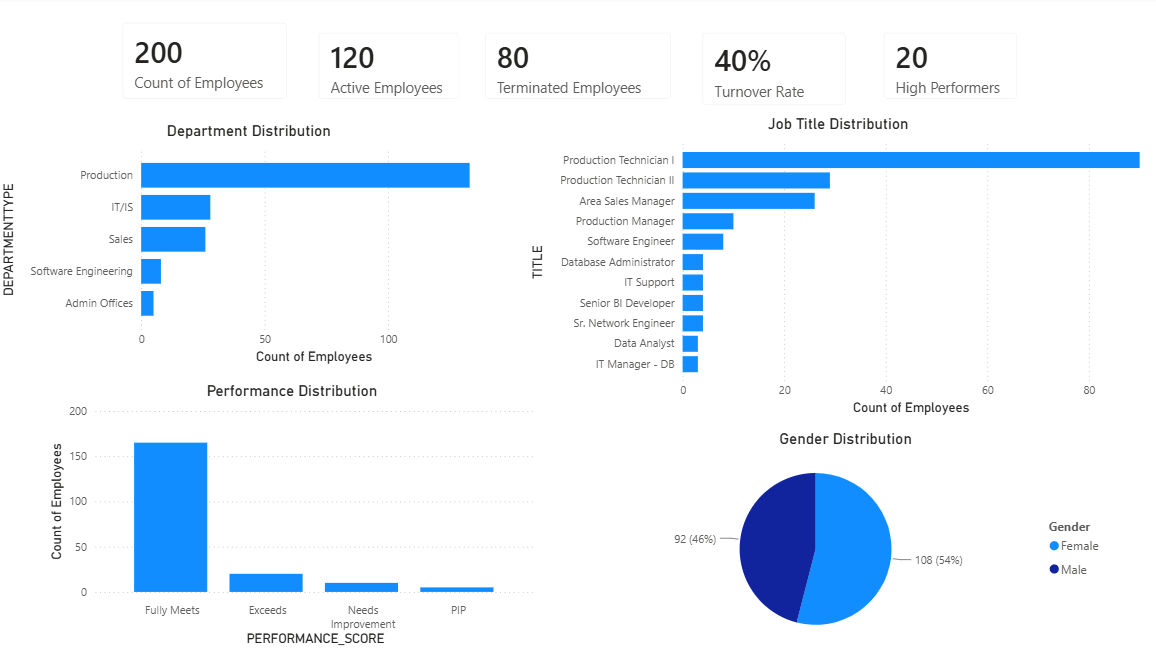

The dashboard page shown, as its layout file describes it:
{"tool":"powerbi","page":{"name":"Page 1","canvas":[1280,720],"ordinal":0},"visuals":[{"type":"cardVisual","title":"Total Employees","fields":{"Data":["CountNonNull(employee_master.EMPID)"]},"box":[121,12.4,215.9,118.3],"z":0},{"type":"cardVisual","fields":{"Data":["employee_master.Active Employees"]},"box":[336.9,23.4,188.4,107.3],"z":1000},{"type":"cardVisual","fields":{"Data":["employee_master.Terminated Employees"]},"box":[519.8,23.4,239.3,107.3],"z":2000},{"type":"cardVisual","fields":{"Data":["employee_master.Turnover Rate"]},"box":[759.1,23.4,192.5,114.1],"z":3000},{"type":"barChart","title":"Department Distribution","fields":{"Category":["employee_master.DEPARTMENTTYPE"],"Y":["CountNonNull(employee_master.EMPID)"]},"box":[0,137.5,554.2,272.3],"z":4000},{"type":"barChart","title":"Job Title Distribution","fields":{"Category":["employee_master.TITLE"],"Y":["CountNonNull(employee_master.EMPID)"]},"box":[581.7,130.6,687.6,335.5],"z":5000},{"type":"pieChart","title":"Gender Distribution","fields":{"Category":["employee_master.GENDERCODE"],"Y":["CountNonNull(employee_master.EMPID)"]},"box":[639.5,477.2,588.6,243.4],"z":6000},{"type":"clusteredColumnChart","title":"Performance Distribution","fields":{"Category":["employee_master.PERFORMANCE_SCORE"],"Y":["CountNonNull(employee_master.EMPID)"]},"box":[52.3,423.6,544.6,297],"z":6002},{"type":"cardVisual","fields":{"Data":["employee_master.High Performers"]},"box":[958.5,23.4,181.5,107.3],"z":6003}]}

Visuals, with their boxes in screenshot pixels (x1, y1, x2, y2), scaled from the page's 1280x720 canvas onto the 1156x649 screenshot:
"Total Employees" cardVisual: bbox=[109, 11, 304, 118]
cardVisual - employee_master.Active Employees: bbox=[304, 21, 474, 118]
cardVisual - employee_master.Terminated Employees: bbox=[469, 21, 686, 118]
cardVisual - employee_master.Turnover Rate: bbox=[686, 21, 859, 124]
"Department Distribution" barChart: bbox=[0, 124, 501, 369]
"Job Title Distribution" barChart: bbox=[525, 118, 1146, 420]
"Gender Distribution" pieChart: bbox=[578, 430, 1109, 648]
"Performance Distribution" clusteredColumnChart: bbox=[47, 382, 539, 648]
cardVisual - employee_master.High Performers: bbox=[866, 21, 1030, 118]
